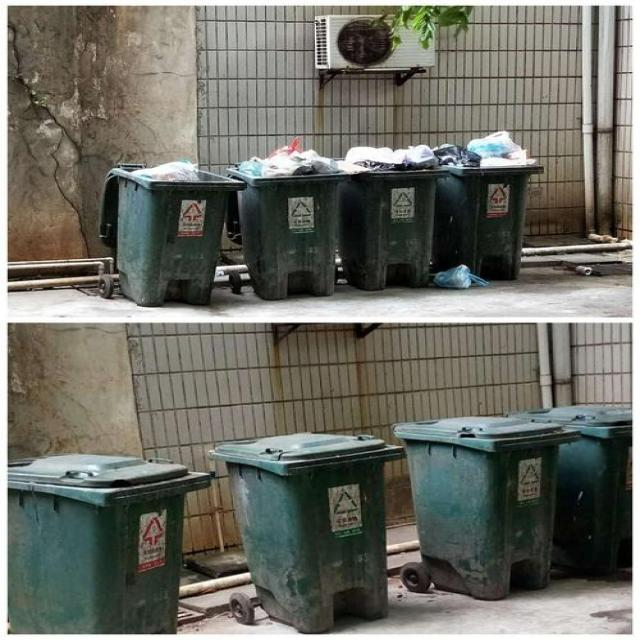garbage: (434, 264, 489, 292)
garbage_bin: (208, 432, 404, 631), (7, 453, 208, 632), (393, 414, 579, 598), (511, 407, 628, 577)
overflow: (97, 158, 246, 302), (225, 138, 352, 300), (435, 132, 545, 280), (335, 146, 434, 289)
